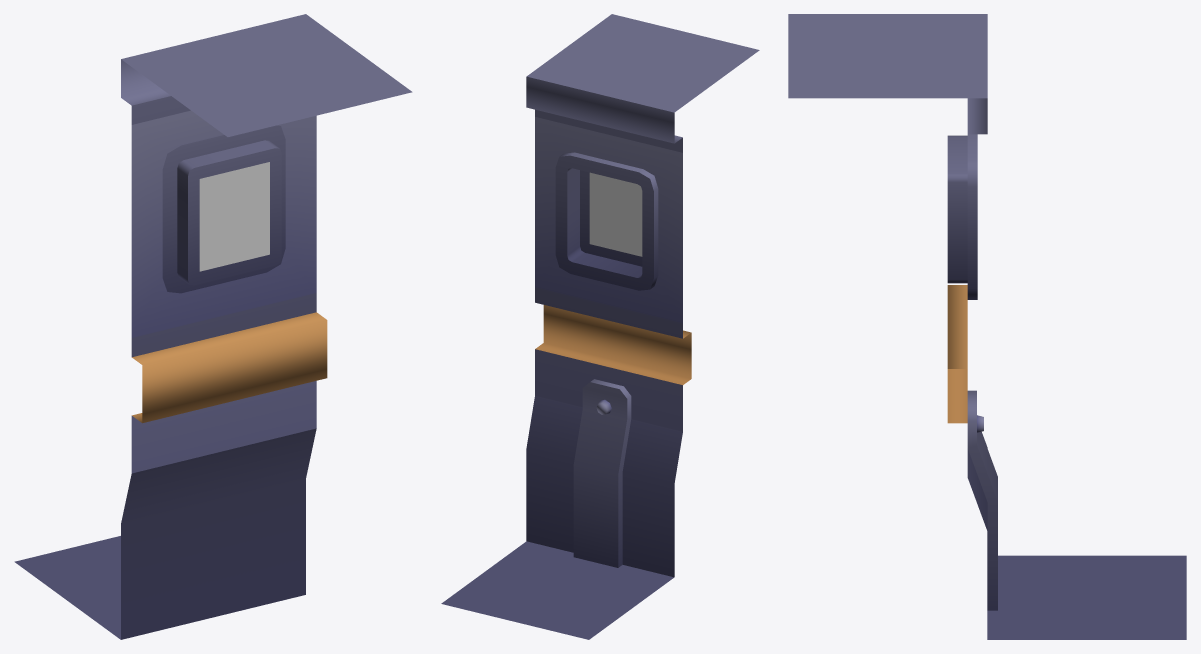
Rendered from structure-window.glb.
3 renders of one model, left to right at view 1: azimuth 30°, elevation 25°; view 2: azimuth 150°, elevation 25°; view 3: azimuth 270°, elevation 25°, orthographic. The views are drawn at different scales.
Visible parts, largest first — view 1: structure-window; view 2: structure-window; view 3: structure-window.
Part boxes in pixels (<box>): structure-window: <box>14,14,412,639</box>; structure-window: <box>441,14,759,639</box>; structure-window: <box>788,14,1186,639</box>.
Size of the model in its own units: 1 by 3 by 2.
